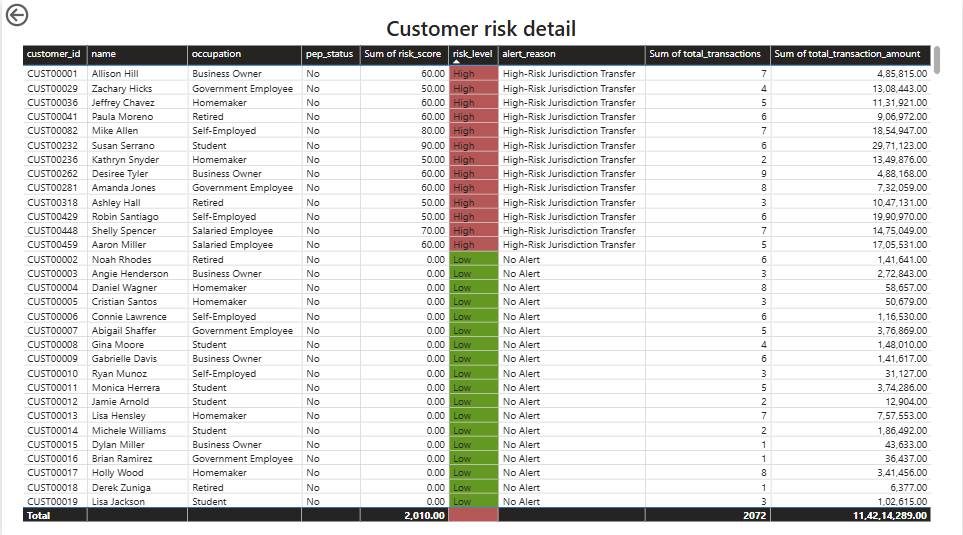

What the dashboard file says about the page in this screenshot:
{"tool":"powerbi","page":{"name":"Customer risk detail","canvas":[1280,720],"ordinal":4},"visuals":[{"type":"tableEx","title":"Customer risk detail","fields":{"Values":["aml_monitoring customer_risk_summary.customer_id","aml_monitoring customer_risk_summary.name","aml_monitoring customer_risk_summary.occupation","aml_monitoring customer_risk_summary.pep_status","Sum(aml_monitoring customer_risk_summary.risk_score)","aml_monitoring customer_risk_summary.risk_level","aml_monitoring customer_risk_summary.alert_reason","Sum(aml_monitoring customer_risk_summary.total_transactions)","Sum(aml_monitoring customer_risk_summary.total_transaction_amount)"]},"box":[22,18,1234,682],"z":0},{"type":"actionButton","box":[0,0,100,40],"z":1000}]}

Visuals, with their boxes on the page's 1280x720 design canvas (x1, y1, x2, y2). These are canvas units, not pixel positions in the 963x535 screenshot, which may show the page scaled, cropped or inside an application window:
"Customer risk detail" tableEx: Rect(22, 18, 1256, 700)
actionButton: Rect(0, 0, 100, 40)
